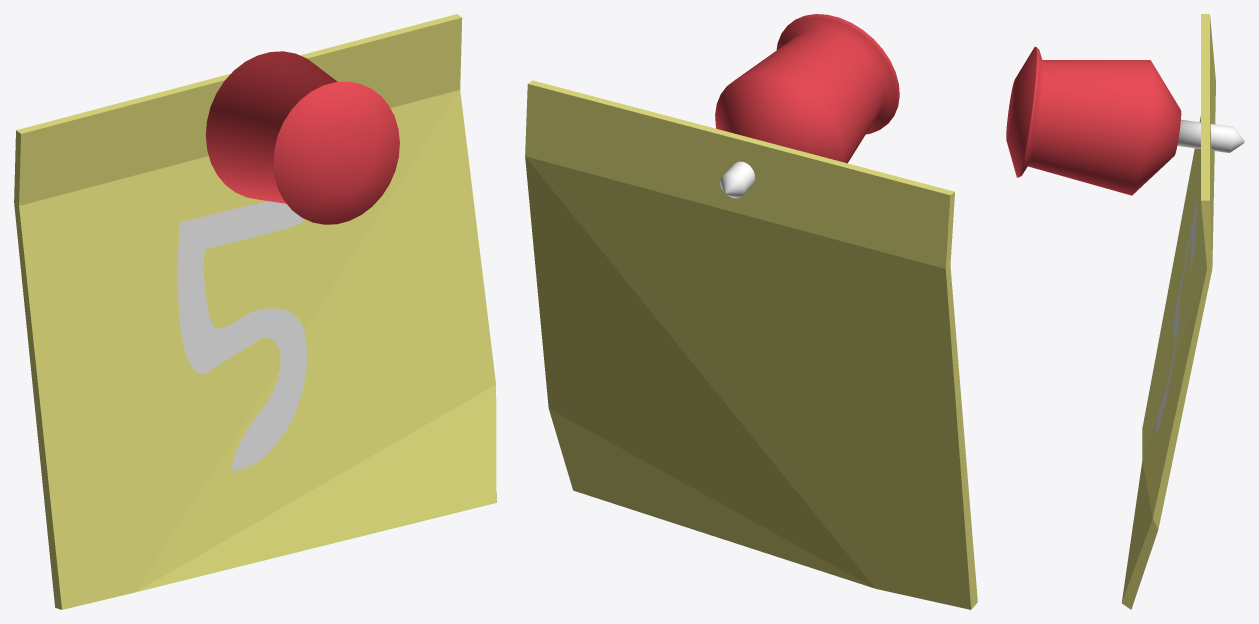
The model's file is level5.fbx.
3 renders of one model, left to right at view 1: azimuth 30°, elevation 25°; view 2: azimuth 150°, elevation 25°; view 3: azimuth 270°, elevation 25°, orthographic. The views are drawn at different scales.
Parts seen in each view (by area): view 1: SM_Prop_Note_04, pin.001, Text.001; view 2: SM_Prop_Note_04, pin.001; view 3: pin.001, SM_Prop_Note_04, Text.001.
Part boxes in pixels (x1,y1,x2,y2): SM_Prop_Note_04: (14,14,496,609); pin.001: (205,51,399,224); Text.001: (177,201,306,470); SM_Prop_Note_04: (525,80,977,609); pin.001: (715,14,899,198); pin.001: (1006,46,1244,195); SM_Prop_Note_04: (1121,14,1215,609); Text.001: (1156,196,1197,433).
Bounding box in the file's own units: 103 × 114 × 52.33.
